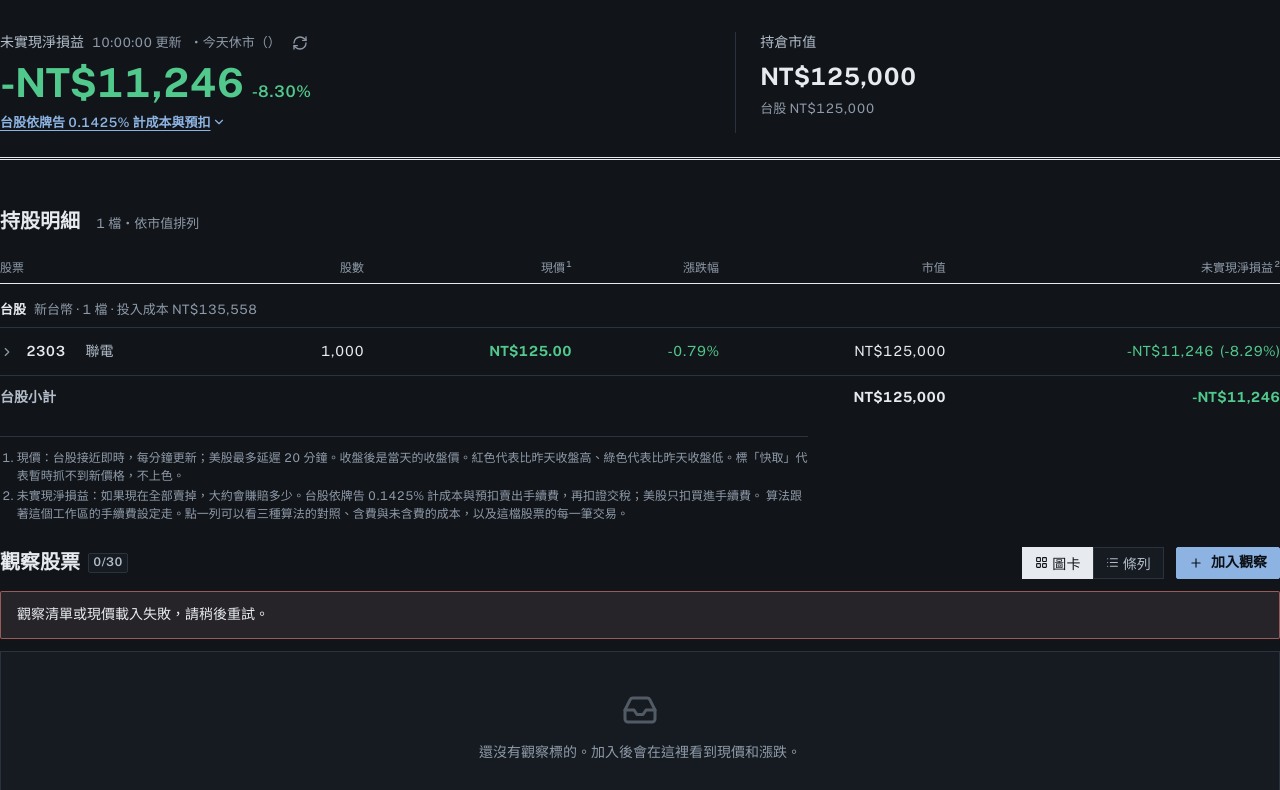
Test: DashboardPage — 多空並存時的 KPI 加總（Task 141） › 月退制的折扣工作區：主表、小計與算法說明都改用牌告口徑
Expected: the row with test id "holding-row-2303" shows "-NT$11,246", [1127,343,1214,359]
Expected: the row with test id "tw-subtotal" shows "-NT$11,246", [1192,389,1279,405]
Click the row with test id "holding-row-2303".
click(640, 352)  # box [0,328,1279,376]
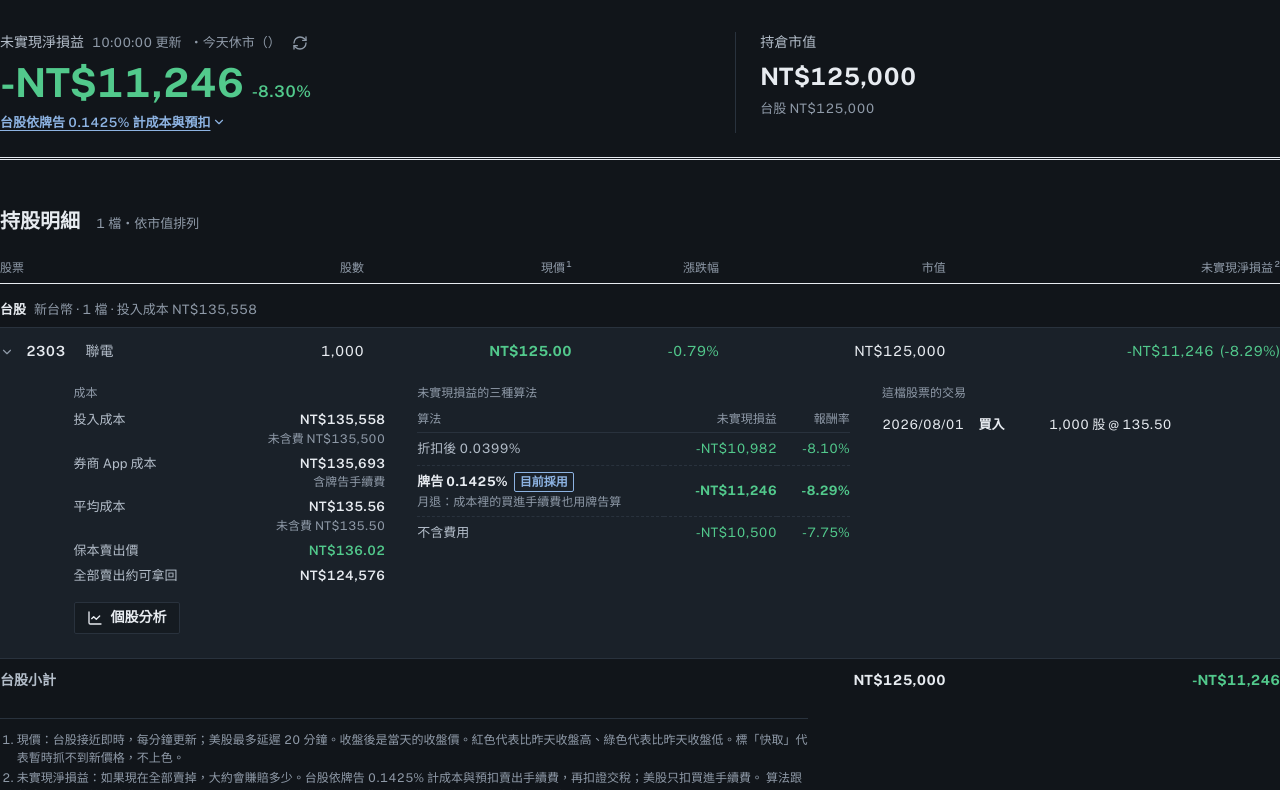
Expected: the element with test id "method-net" does not show "目前採用"
Now the row with test id "method-list" shows "目前採用", box [520,474,568,488]
Now the row with test id "method-list" shows "月退：成本裡的買進手續費也用牌告算", box [417,494,621,508]
